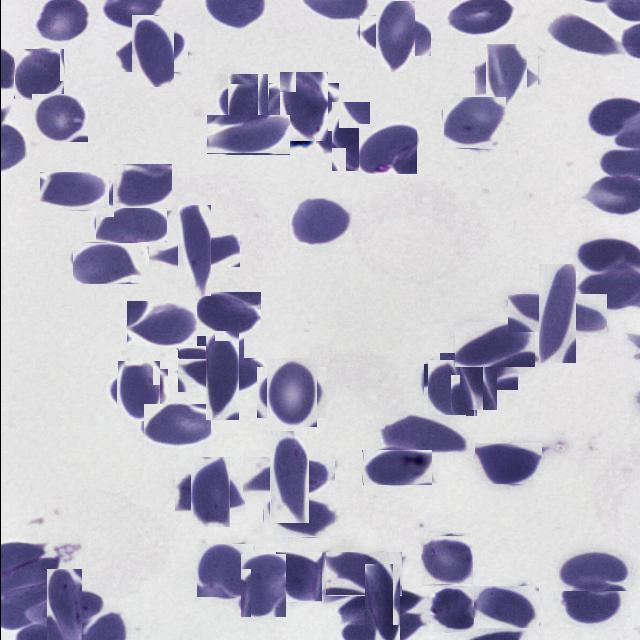red blood cell: (522, 278, 590, 348), (255, 444, 321, 509), (162, 219, 225, 281), (191, 344, 252, 406), (454, 322, 534, 367), (352, 576, 412, 636), (260, 362, 320, 422), (544, 10, 618, 58), (274, 77, 333, 136), (324, 552, 401, 596), (122, 22, 180, 80), (205, 114, 289, 154), (449, 343, 507, 400), (126, 301, 196, 348), (442, 97, 505, 149), (34, 580, 92, 636), (380, 415, 465, 453), (287, 198, 351, 248), (197, 542, 253, 598), (367, 8, 422, 64), (262, 496, 334, 538), (192, 292, 260, 336), (182, 464, 236, 519), (322, 110, 377, 164), (239, 554, 285, 618), (358, 124, 416, 174), (558, 551, 630, 591), (111, 164, 171, 211), (425, 362, 478, 415), (479, 49, 532, 102), (72, 243, 140, 284), (562, 578, 622, 624), (474, 443, 541, 484), (38, 172, 108, 211), (473, 586, 538, 628), (111, 364, 163, 416), (220, 80, 272, 132), (31, 94, 87, 142), (143, 404, 210, 444), (420, 534, 470, 585), (94, 208, 166, 243), (362, 450, 432, 486), (13, 49, 63, 99), (177, 323, 243, 360), (275, 552, 321, 602), (428, 588, 475, 632)
